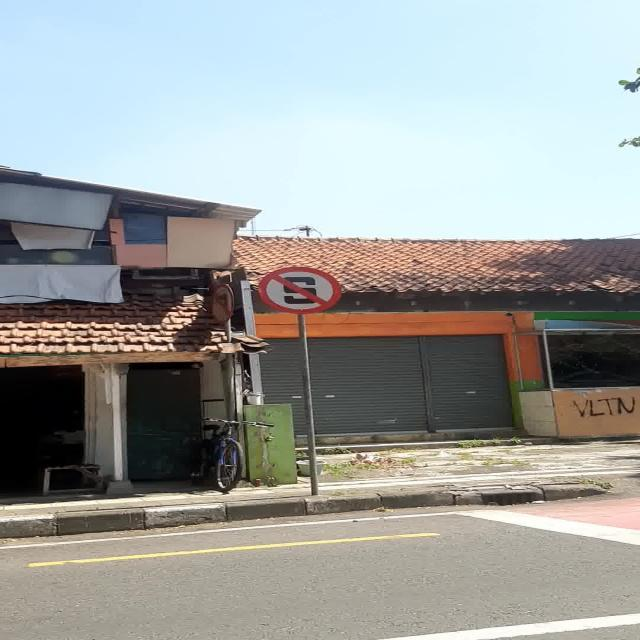Dilarang Berhenti: (258, 266, 342, 314)
